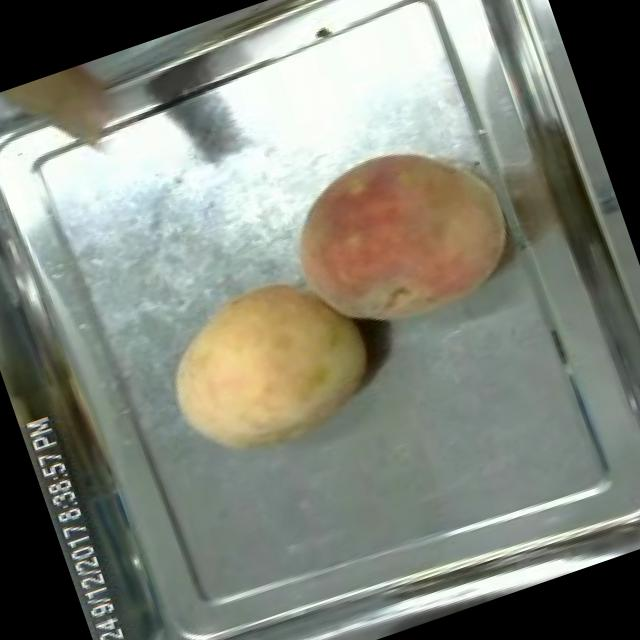Fruit: (263, 113, 533, 361), (137, 246, 397, 484)
